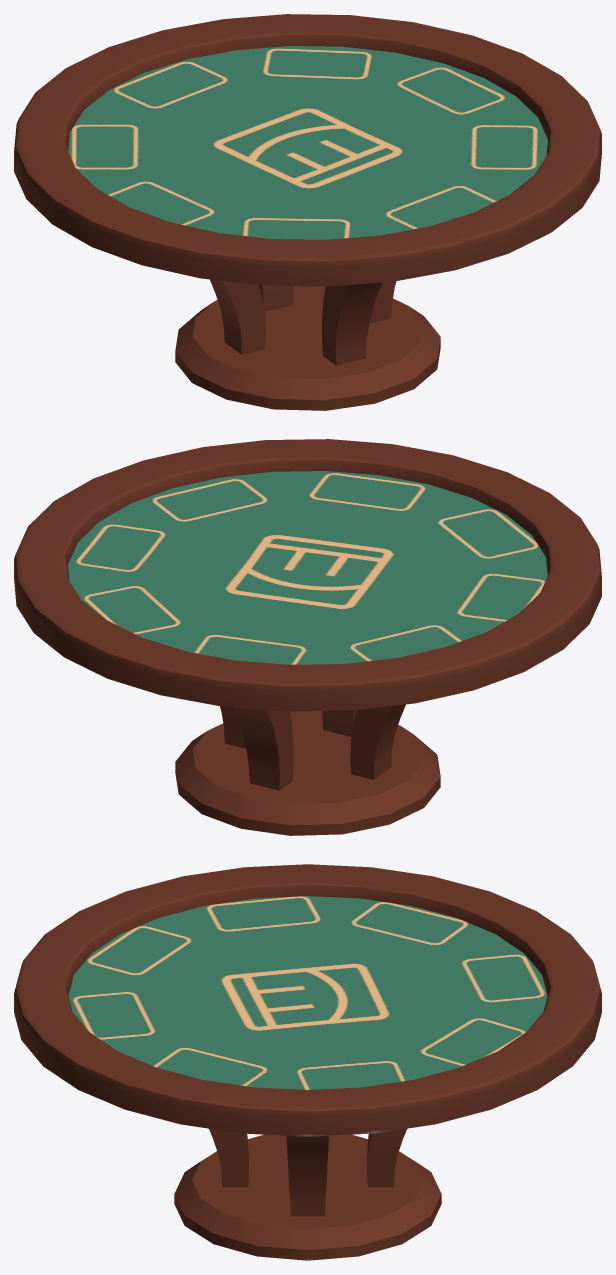
Rendered from poker table.glb.
3 renders of one model, top to bottom at view 1: azimuth 30°, elevation 25°; view 2: azimuth 150°, elevation 25°; view 3: azimuth 270°, elevation 25°, orthographic.
Parts seen in each view (by area): view 1: PokerTable; view 2: PokerTable; view 3: PokerTable.
Boxes of the visible parts, left/top/right/bottom form: PokerTable: left=14, top=14, right=601, bottom=410; PokerTable: left=14, top=439, right=601, bottom=835; PokerTable: left=14, top=864, right=601, bottom=1260.
Size of the model in its own units: 64.23 by 26.34 by 64.23.
Materials: 1 (1 with a texture image).
